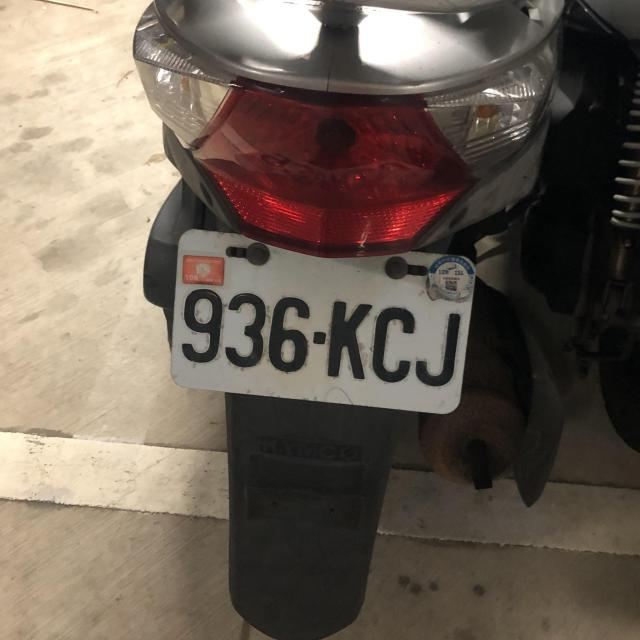W: (166, 225, 484, 415)
